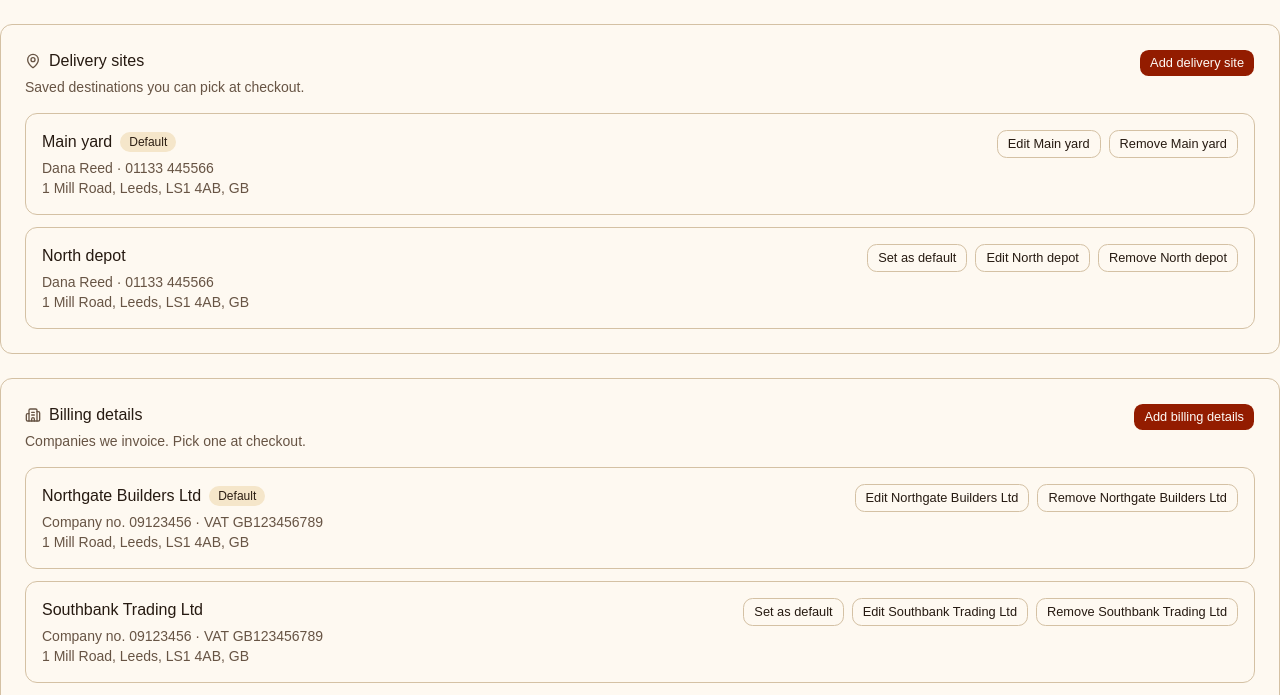
Test: DeliverySitesSection › rejects a contact phone outside the accepted bounds
This screenshot has width=1280, height=695.
Click the button "Add delivery site" at (1197, 63), box [1139, 49, 1255, 77]
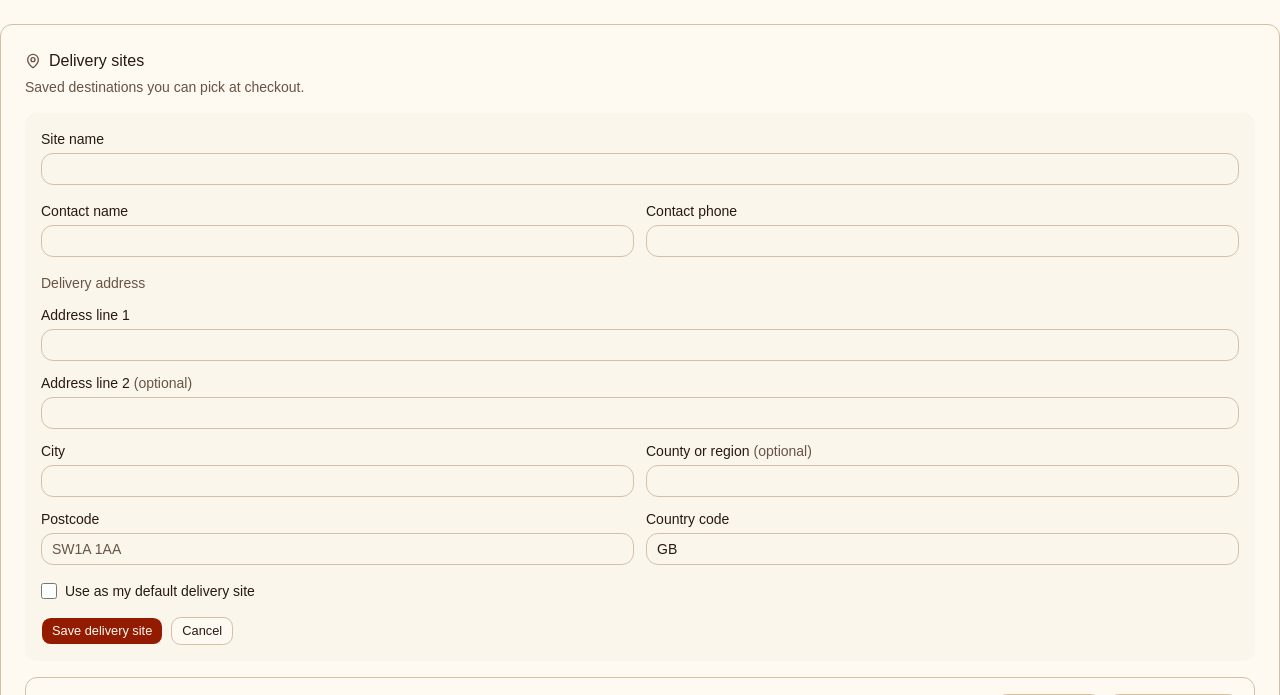
Type "123" into the field labelled "Contact phone" at (942, 241), box [646, 225, 1239, 257]
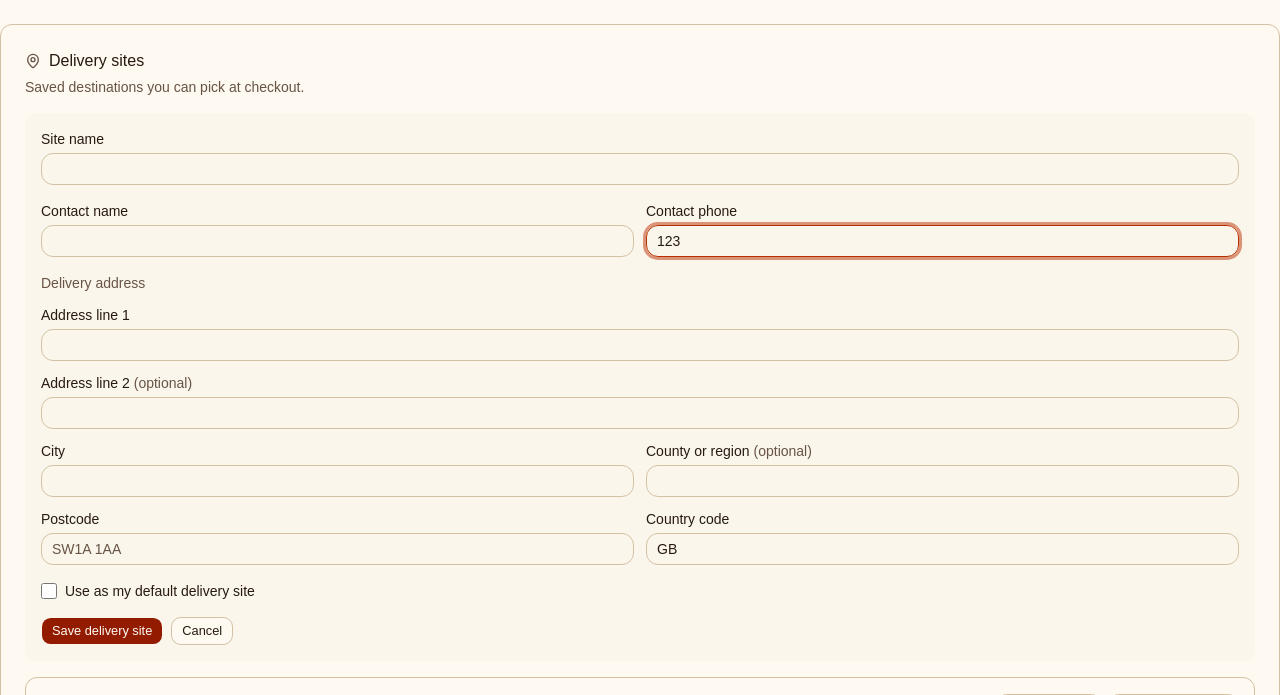
Click the button "Save delivery site" at (102, 631), box [41, 617, 163, 645]
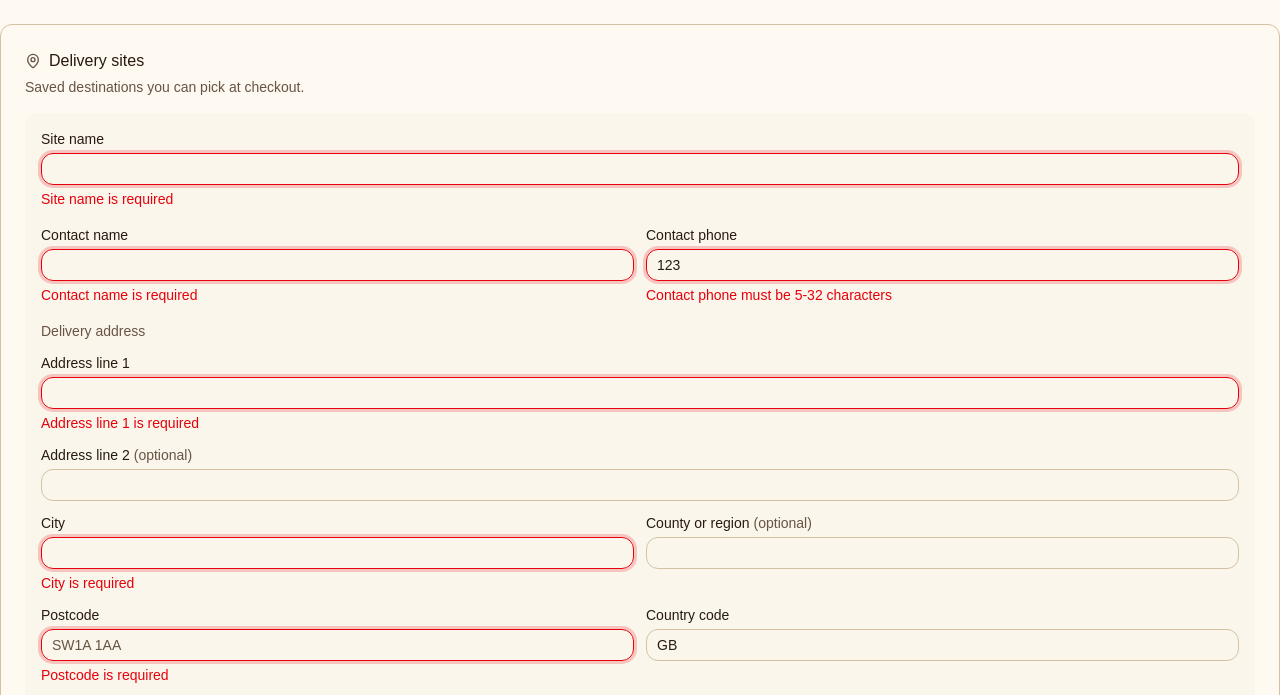
Now the text "Contact phone must be 5-32 characters" is shown, box [646, 287, 892, 303]
